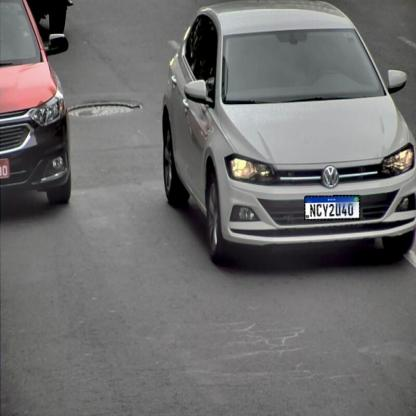PlacaM: (304, 195, 360, 220)
